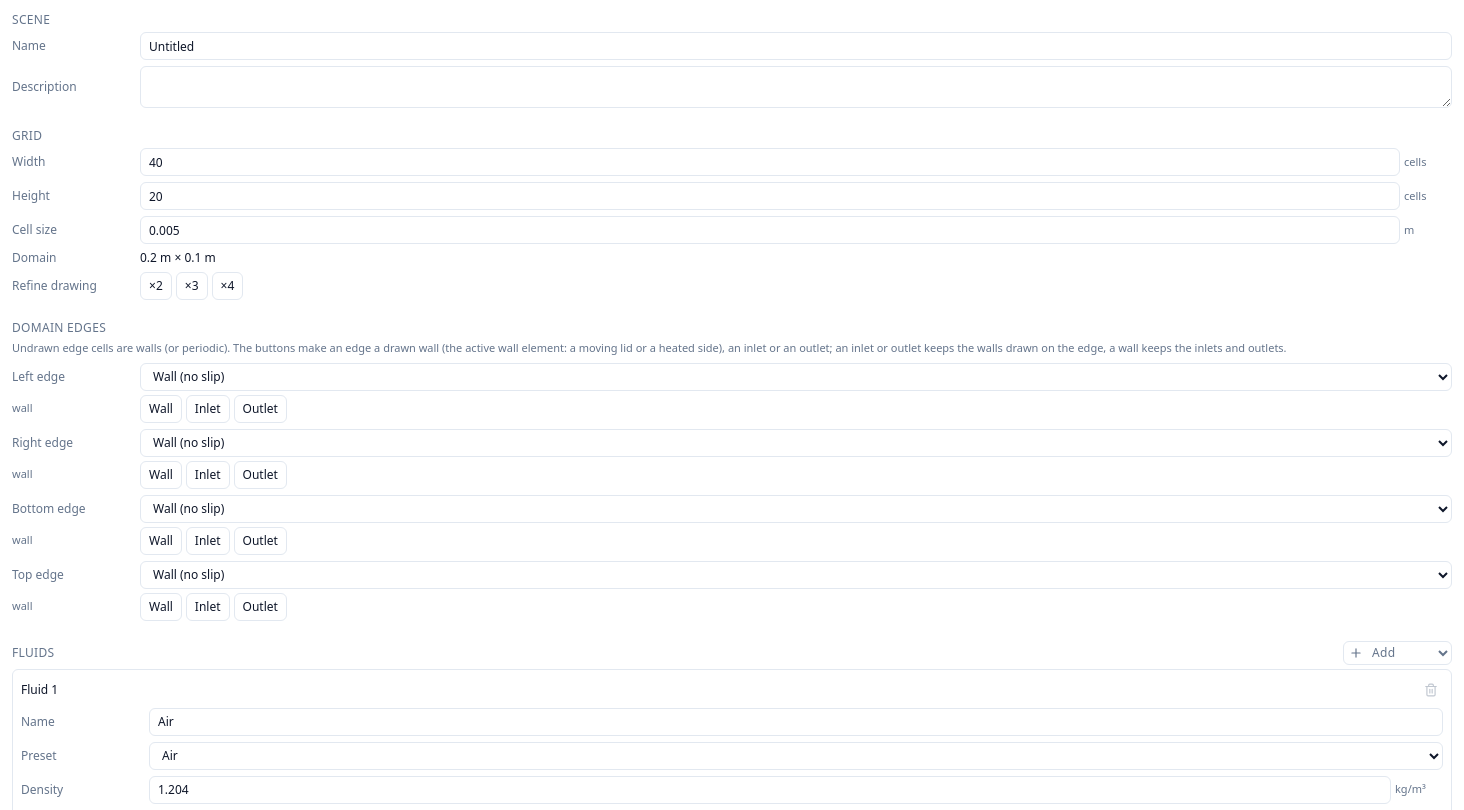
Test: Scene tab: domain edges › disables the buttons of periodic edges
This screenshot has width=1464, height=810.
Select "Periodic" in the dropdown with test id "edge-top-kind". click: {"x": 796, "y": 574}
box: left=140, top=560, right=1452, bottom=588
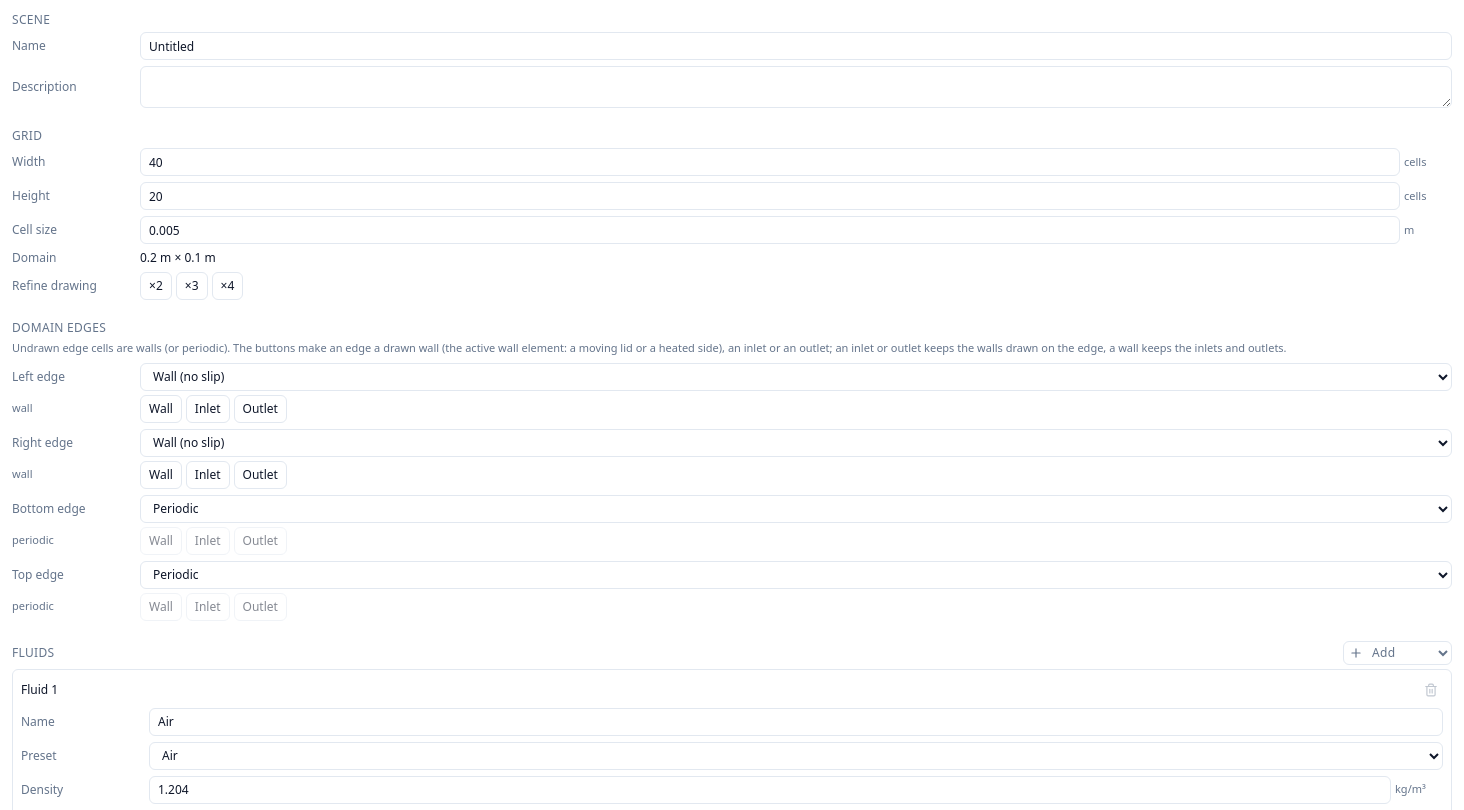
Expected: the button with test id "make-outlet-left" is enabled, left=234, top=394, right=287, bottom=422
Expected: the element with test id "edge-bottom-summary" reads "periodic", left=12, top=532, right=54, bottom=547
Expected: the button with test id "make-outlet-bottom" is disabled, left=234, top=526, right=287, bottom=554
